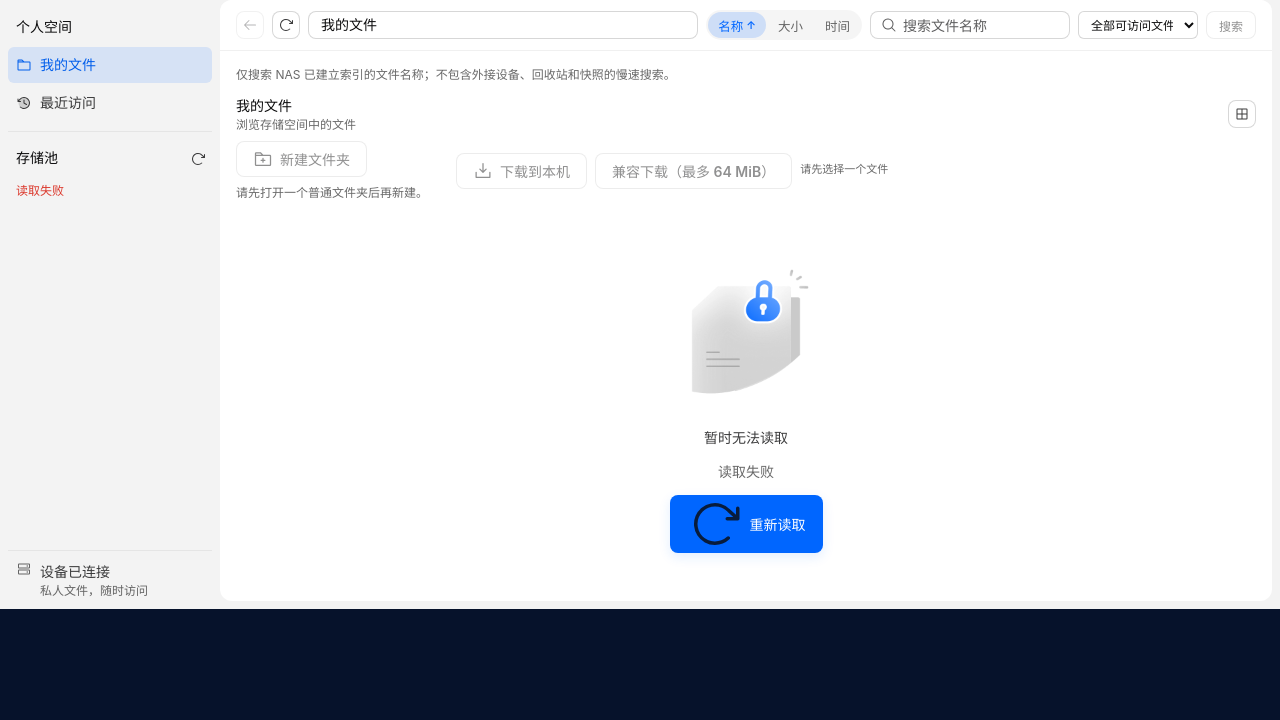
Test: offers genuine error retry and an empty pool state instead of inventing locations
The width and height of the screenshot is (1280, 720).
Expected: the message "读取失败" is shown, [16,183,64,198]
Click the button named "刷新存储池".
click(198, 158)  # box [186,146,210,170]
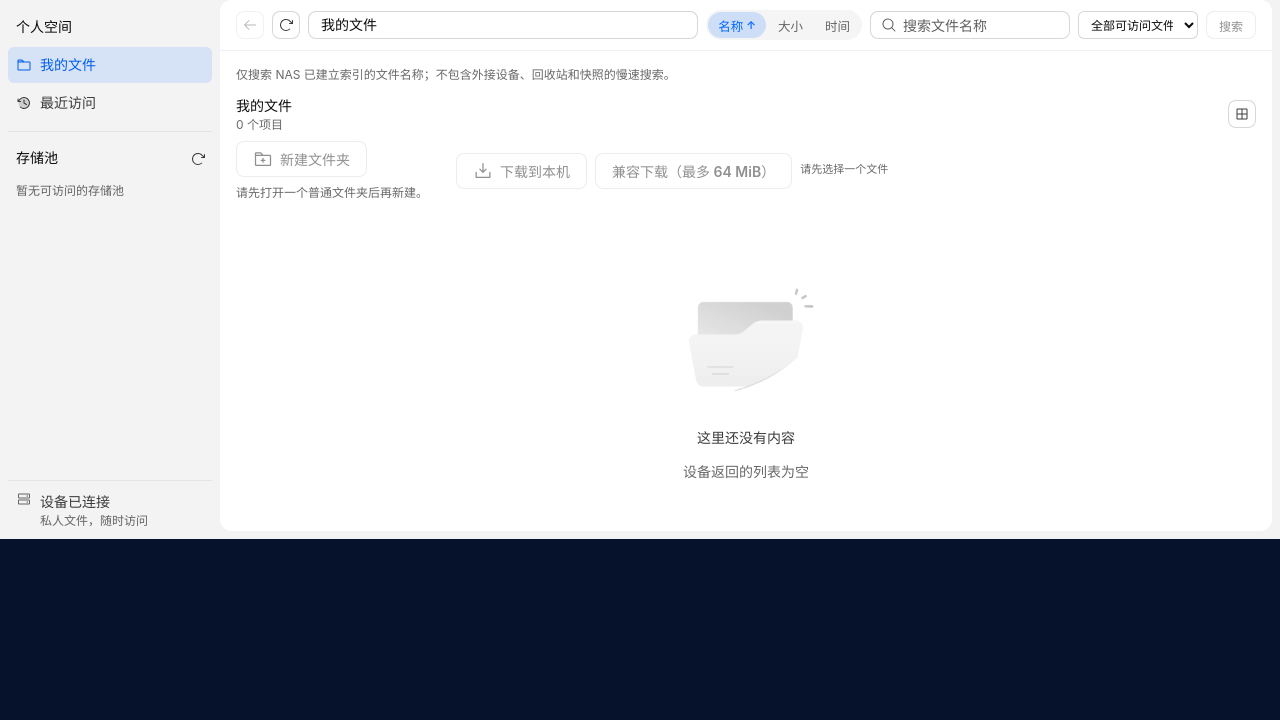
Result: the text "暂无可访问的存储池" is shown at [16,183,124,198]
